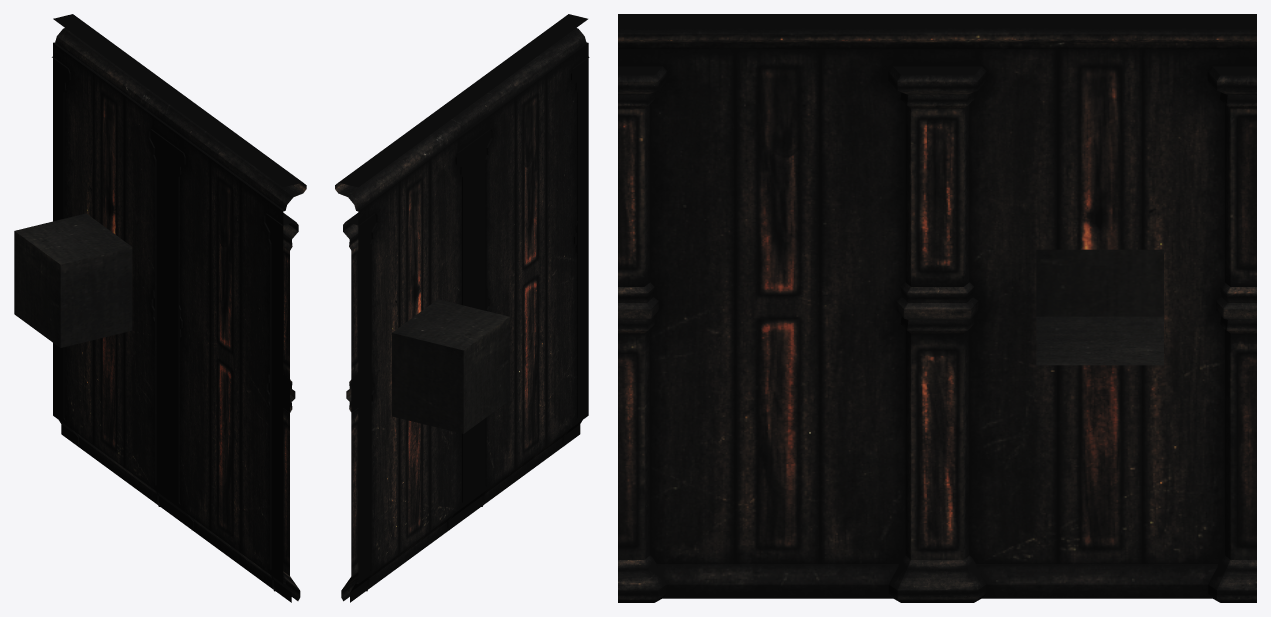
Rendered from default02_secret_rotten.dae.
3 views of the same model, side by side, from view 1: azimuth 30°, elevation 25°; view 2: azimuth 150°, elevation 25°; view 3: azimuth 270°, elevation 25° (orthographic). The views are drawn at different scales.
Parts seen in each view (by area): view 1: Cube_002; view 2: Cube_002; view 3: Cube_002.
Boxes of the visible parts, left/top/right/bottom form: Cube_002: left=14, top=14, right=306, bottom=602; Cube_002: left=335, top=14, right=589, bottom=602; Cube_002: left=618, top=14, right=1256, bottom=602.
Bounding box in the file's own units: 0.955 × 4 × 4.
